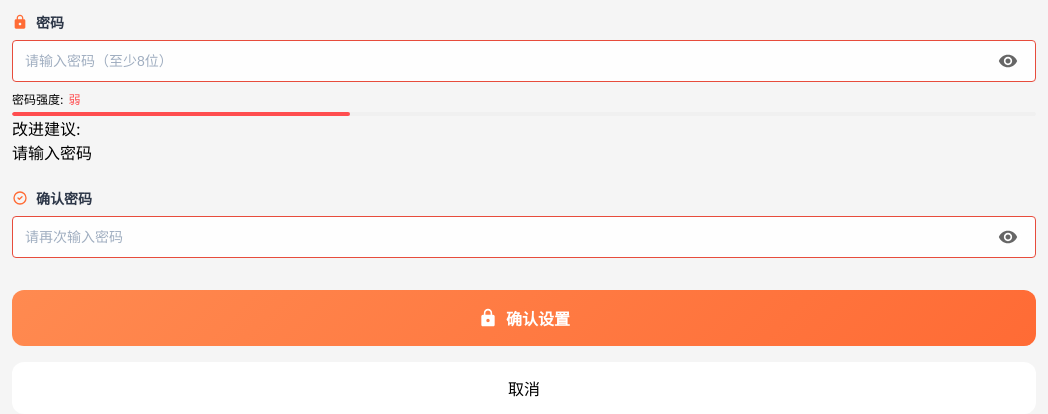
Test: PasswordSetupForm Component Tests › 应该在设置过程中显示加载状态
This screenshot has width=1048, height=414.
Type "TestPassword123!" into the password field with placeholder "请输入密码（至少8位）" at (524, 61), box [12,40,1036,82]
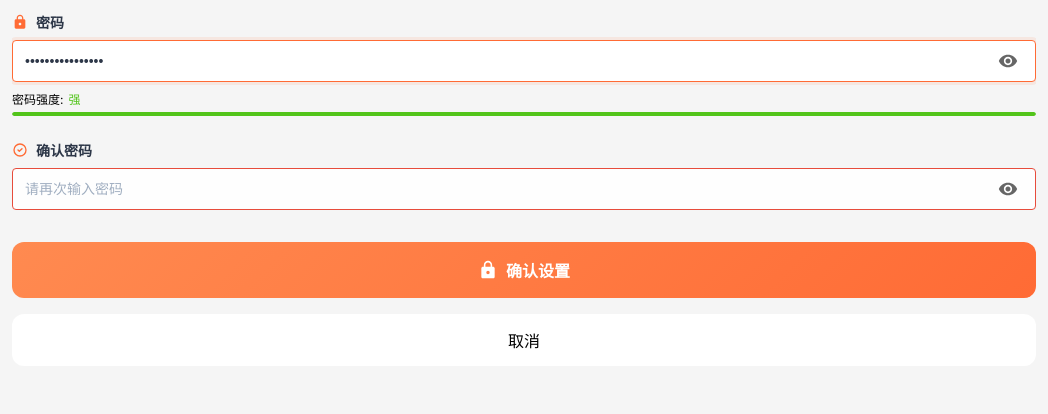
Type "TestPassword123!" into the password field with placeholder "请再次输入密码" at (524, 189), box [12,168,1036,210]
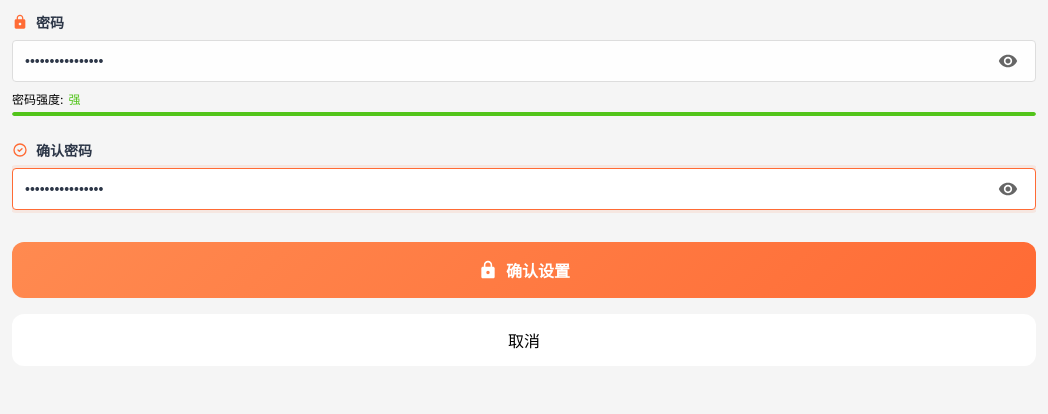
Click the button "确认设置" at (524, 270), box [12,242,1036,298]
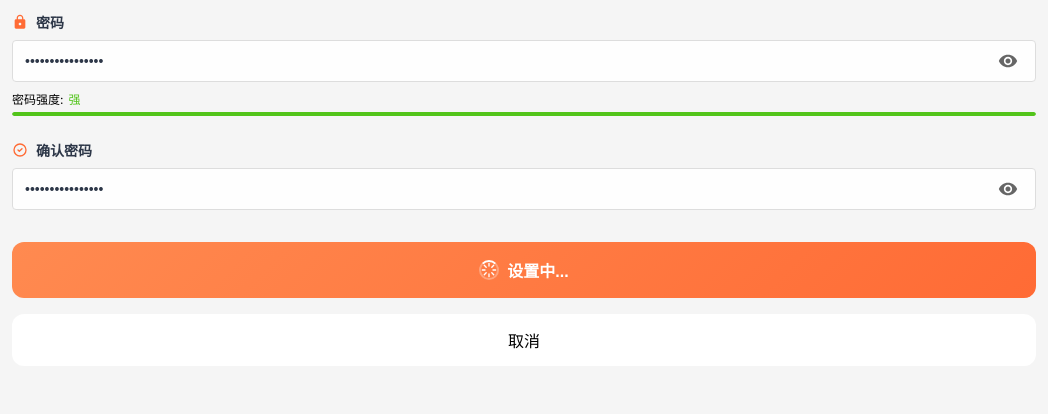
Expected: the button "设置中..." is disabled, [12,242,1036,298]
